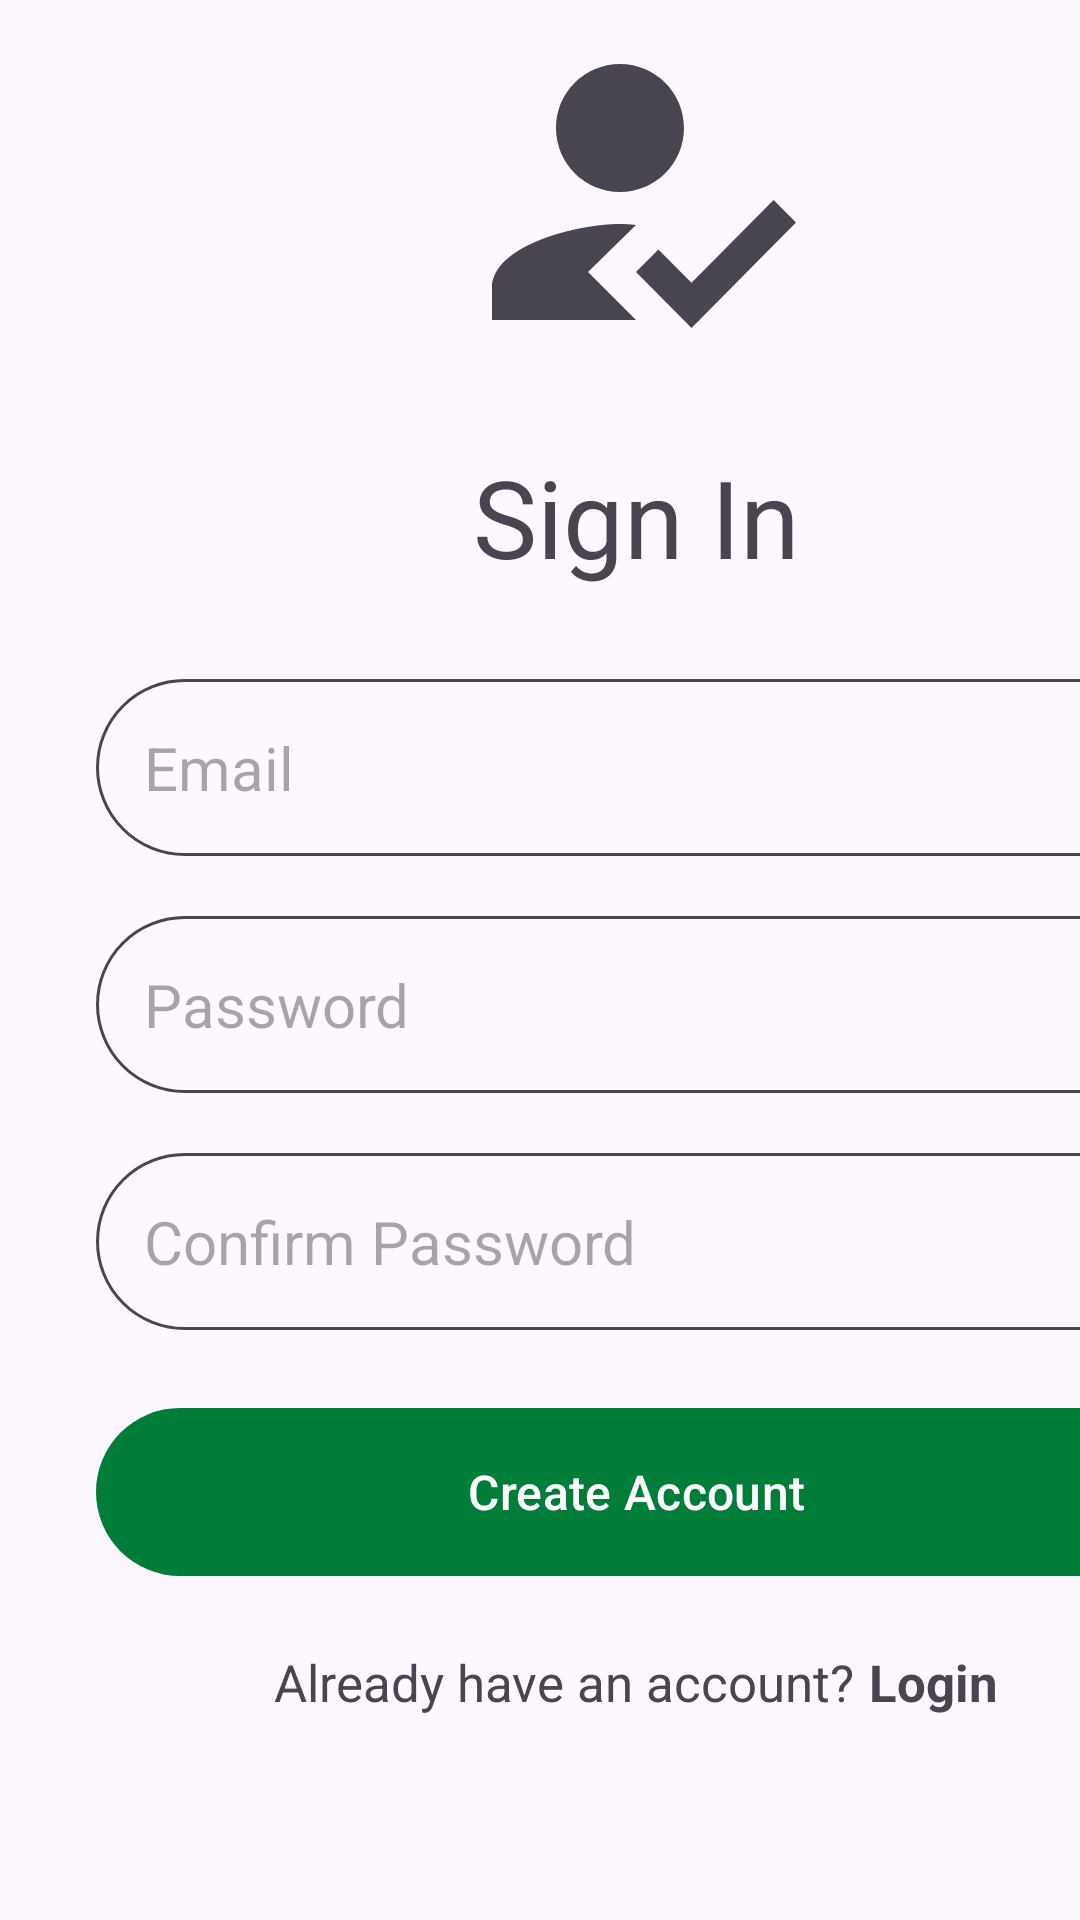

Icon click points for this 1080w x 1920h phone screenshot, format point (x, y):
how to reg: point (644, 196)
